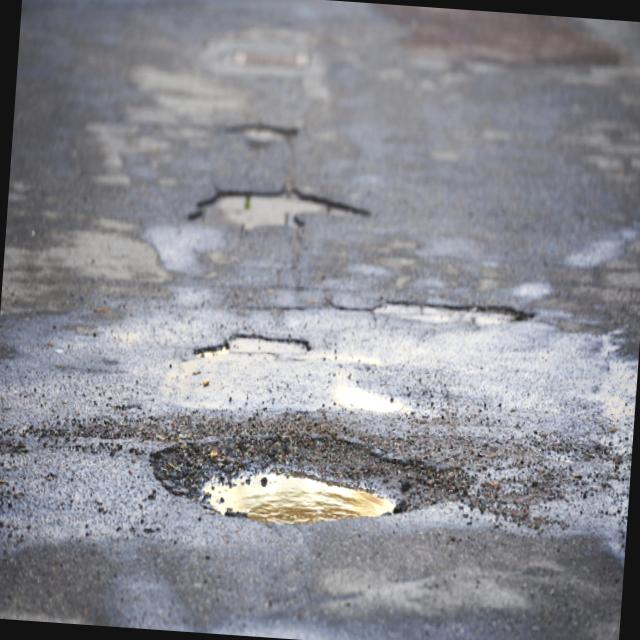bad-road: (144, 421, 454, 535), (190, 180, 372, 234), (368, 294, 536, 326), (192, 328, 312, 363), (231, 119, 300, 147)
